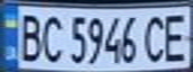4: (103, 12, 124, 64)
5: (63, 11, 87, 64)
6: (118, 12, 142, 64)
9: (84, 12, 106, 65)
B: (12, 10, 45, 62)
C: (139, 11, 172, 64), (36, 11, 66, 63)
E: (160, 10, 193, 63)
